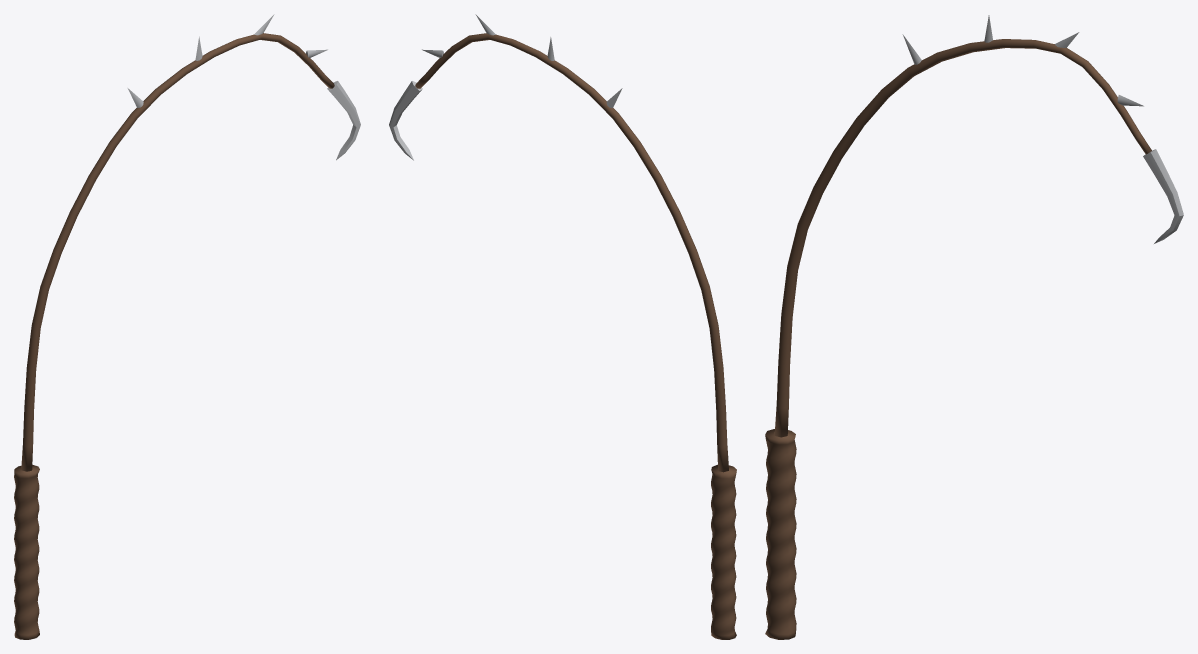
The model's file is scorpion-whip.glb.
3 views of the same model, side by side, from view 1: azimuth 30°, elevation 25°; view 2: azimuth 150°, elevation 25°; view 3: azimuth 330°, elevation 25° (orthographic). The views are drawn at different scales.
Visible parts, largest first — view 1: scorpion-whip; view 2: scorpion-whip; view 3: scorpion-whip.
Boxes of the visible parts, x1,y1,x2,y2 form: scorpion-whip: (14, 14, 360, 639); scorpion-whip: (389, 14, 736, 639); scorpion-whip: (765, 15, 1183, 639).
Size of the model in its own units: 0.9626 by 1.49 by 0.0547.
